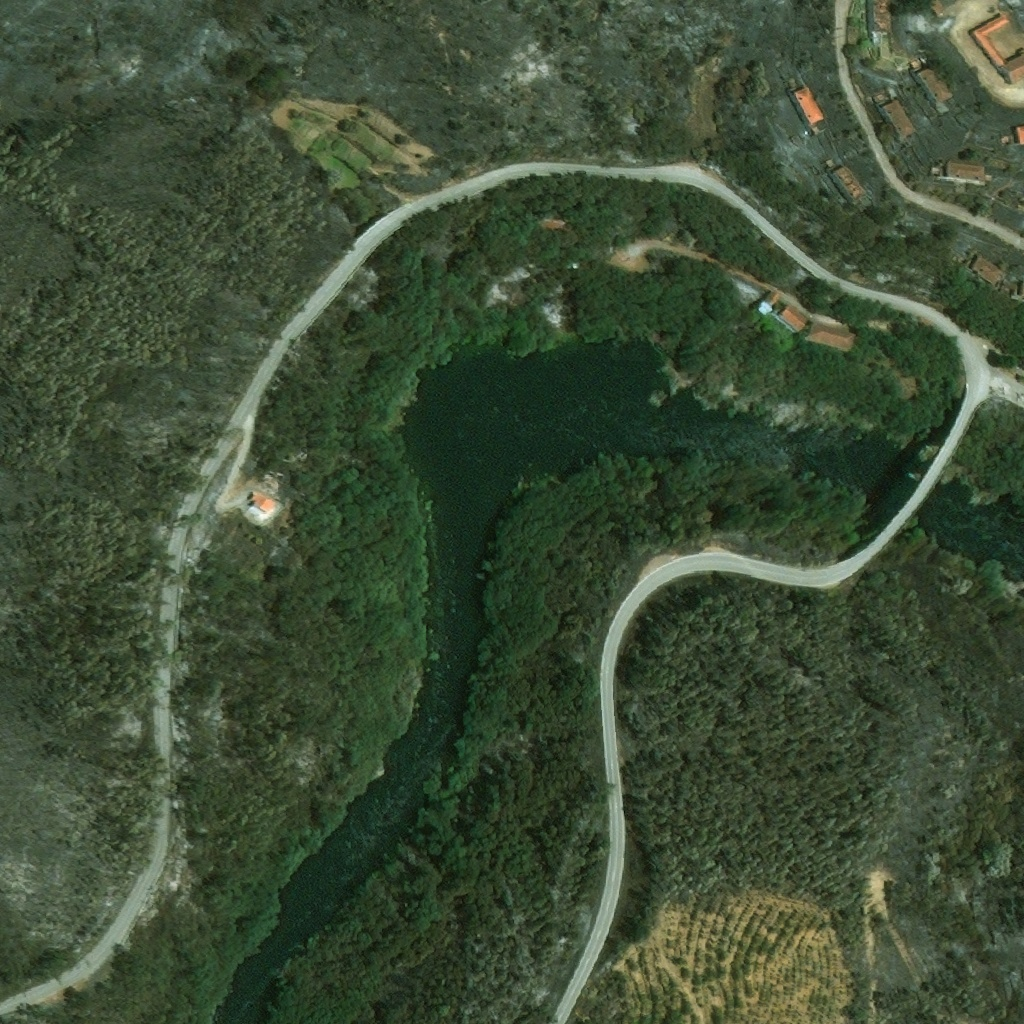0 no-damage: (970, 10, 1009, 67), (914, 63, 954, 117), (880, 96, 919, 144), (805, 319, 857, 355), (792, 84, 828, 127), (971, 252, 1008, 285), (946, 159, 995, 182), (776, 302, 811, 334), (999, 53, 1023, 83), (247, 489, 275, 513), (764, 289, 783, 307), (757, 300, 773, 316), (810, 123, 821, 134)
1 minor-damage: (867, 0, 893, 37), (875, 93, 887, 107), (932, 166, 941, 176)
2 major-damage: (830, 162, 869, 203), (825, 156, 840, 173)
4 un-classified: (684, 230, 702, 254), (660, 228, 673, 242), (1017, 126, 1023, 143), (620, 257, 630, 266), (625, 252, 634, 261)
